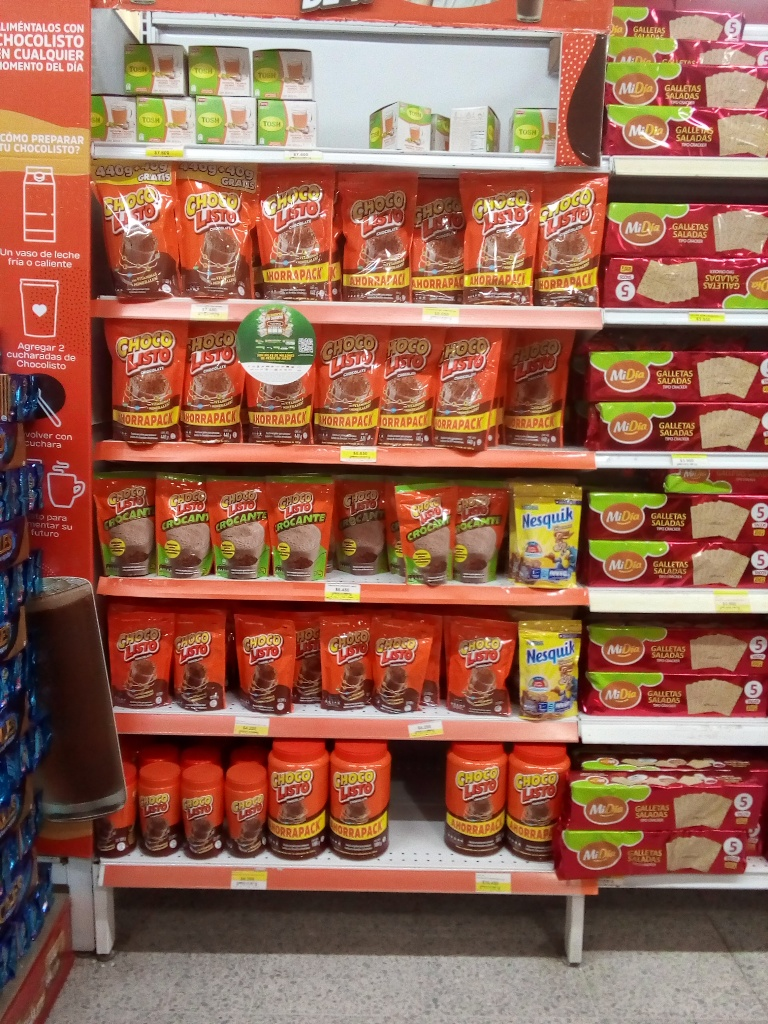COL0170103DYP44000: (104, 315, 186, 445)
COL0170103TRR00100: (267, 736, 330, 858)
COL0170303DYP20000: (512, 613, 581, 721)
